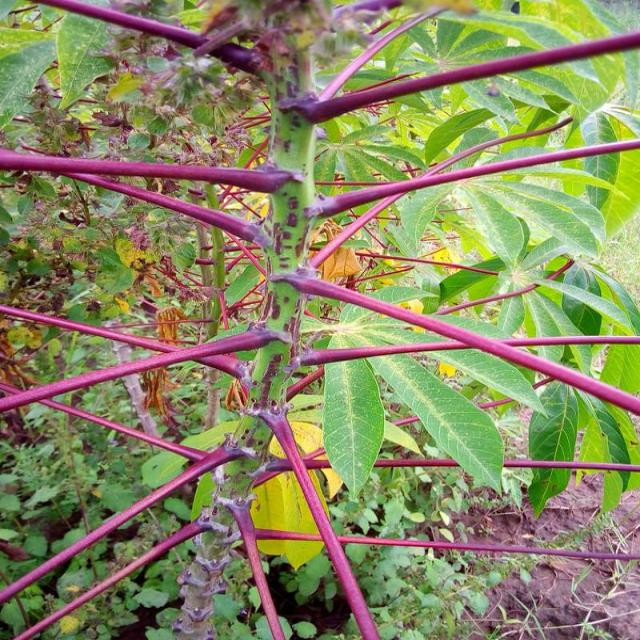cassava leaf: (334, 298, 507, 497), (322, 331, 387, 500)
